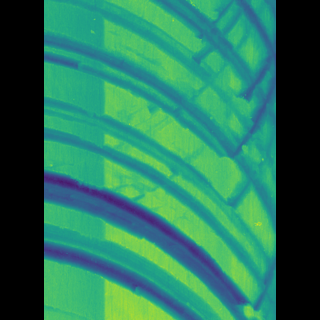Loch: (75, 95, 238, 294), (75, 165, 233, 319), (75, 26, 220, 159), (75, 219, 202, 320), (151, 0, 241, 93)
